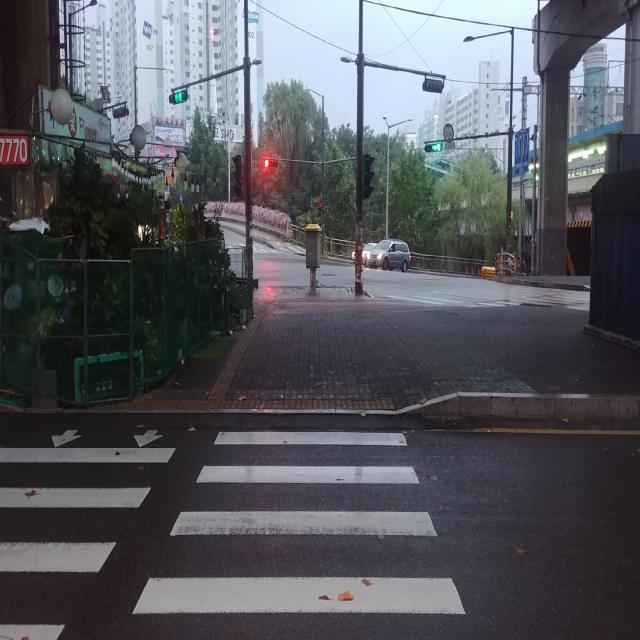횡단보도: (0, 425, 468, 640)
